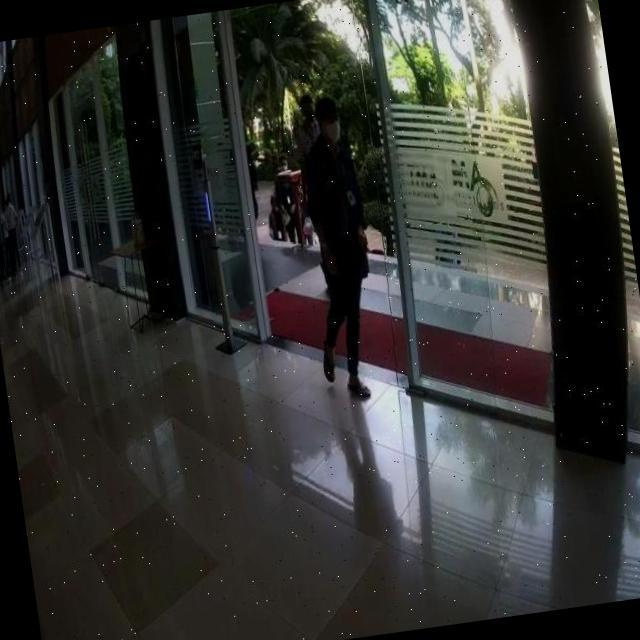person: (286, 94, 388, 406)
